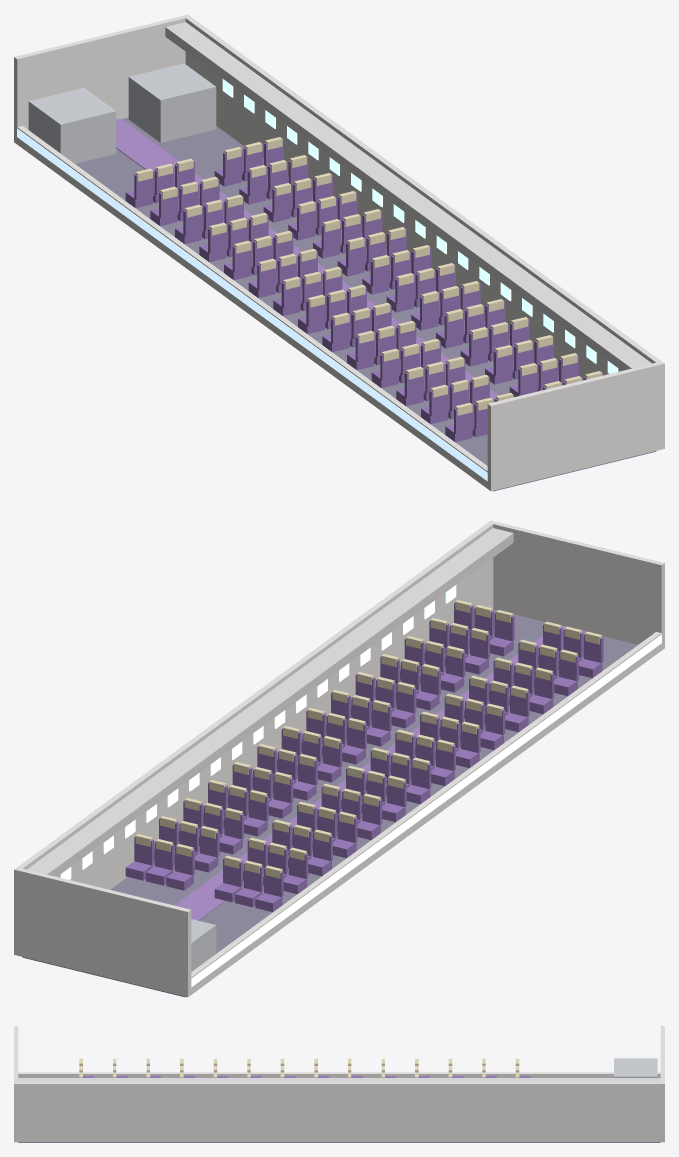
The model's file is plane-cabin.glb.
The picture shows the model from 3 angles, top to bottom: view 1: azimuth 30°, elevation 25°; view 2: azimuth 150°, elevation 25°; view 3: azimuth 270°, elevation 25°; orthographic projection. The views are drawn at different scales.
Visible parts, largest first — view 1: plane-cabin-wall, plane-cabin-seat, plane-cabin-headrest, plane-cabin-bins, plane-cabin-floor, plane-cabin-galley, plane-cabin-sky, plane-cabin-window, plane-cabin-carpet; view 2: plane-cabin-wall, plane-cabin-seat, plane-cabin-headrest, plane-cabin-bins, plane-cabin-floor, plane-cabin-sky, plane-cabin-window, plane-cabin-carpet, plane-cabin-galley; view 3: plane-cabin-wall, plane-cabin-bins, plane-cabin-headrest, plane-cabin-galley, plane-cabin-floor, plane-cabin-seat.
Part boxes in pixels (<box>): plane-cabin-wall: <box>14,14,664,491</box>; plane-cabin-seat: <box>125,139,603,442</box>; plane-cabin-headrest: <box>135,137,602,415</box>; plane-cabin-bins: <box>165,22,651,370</box>; plane-cabin-floor: <box>75,117,656,491</box>; plane-cabin-galley: <box>28,63,216,163</box>; plane-cabin-sky: <box>17,128,487,481</box>; plane-cabin-window: <box>222,79,618,373</box>; plane-cabin-carpet: <box>116,118,498,401</box>; plane-cabin-wall: <box>14,520,664,997</box>; plane-cabin-seat: <box>125,602,603,912</box>; plane-cabin-headrest: <box>135,600,602,878</box>; plane-cabin-bins: <box>27,528,513,876</box>; plane-cabin-floor: <box>22,609,637,997</box>; plane-cabin-sky: <box>191,634,661,987</box>; plane-cabin-window: <box>60,585,456,879</box>; plane-cabin-carpet: <box>174,625,586,920</box>; plane-cabin-galley: <box>191,919,216,971</box>; plane-cabin-wall: <box>14,1026,664,1142</box>; plane-cabin-bins: <box>18,1078,660,1081</box>; plane-cabin-headrest: <box>79,1058,519,1077</box>; plane-cabin-galley: <box>614,1058,657,1077</box>; plane-cabin-floor: <box>18,1142,660,1142</box>; plane-cabin-seat: <box>79,1065,530,1077</box>.
Bounding box in the file's own units: 4.71 × 2.3 × 22.3.
